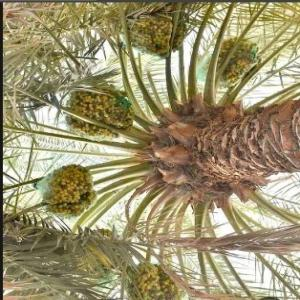palm tree: (1, 2, 299, 299)
